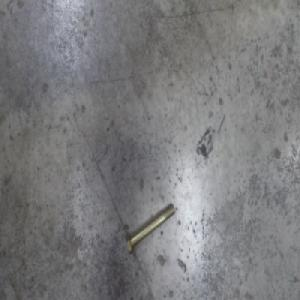Bolt: (125, 201, 175, 258)
